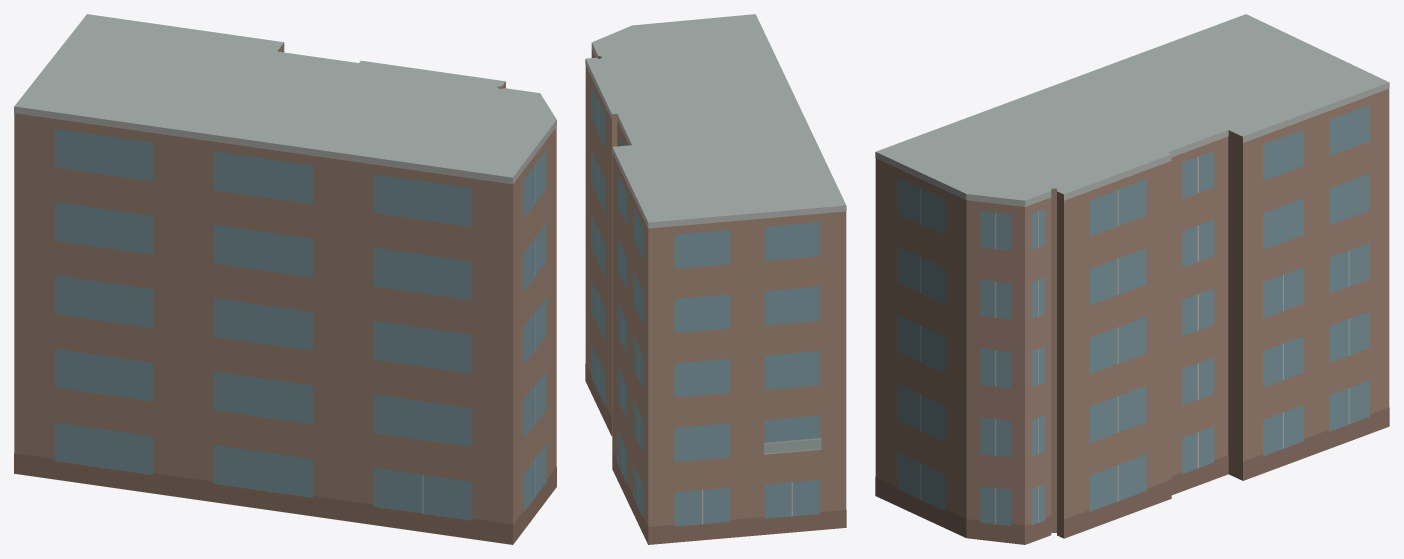
Rendered from survey-upis-32568359.glb.
3 renders of one model, left to right at view 1: azimuth 30°, elevation 25°; view 2: azimuth 150°, elevation 25°; view 3: azimuth 270°, elevation 25°, orthographic. The views are drawn at different scales.
Parts seen in each view (by area): view 1: survey-upis-32568359.tmp; view 2: survey-upis-32568359.tmp; view 3: survey-upis-32568359.tmp.
Boxes of the visible parts, <box> form: survey-upis-32568359.tmp: <box>14,14,556,544</box>; survey-upis-32568359.tmp: <box>585,14,846,544</box>; survey-upis-32568359.tmp: <box>875,14,1389,544</box>.
Size of the model in its own units: 15.43 by 13.26 by 17.95.
